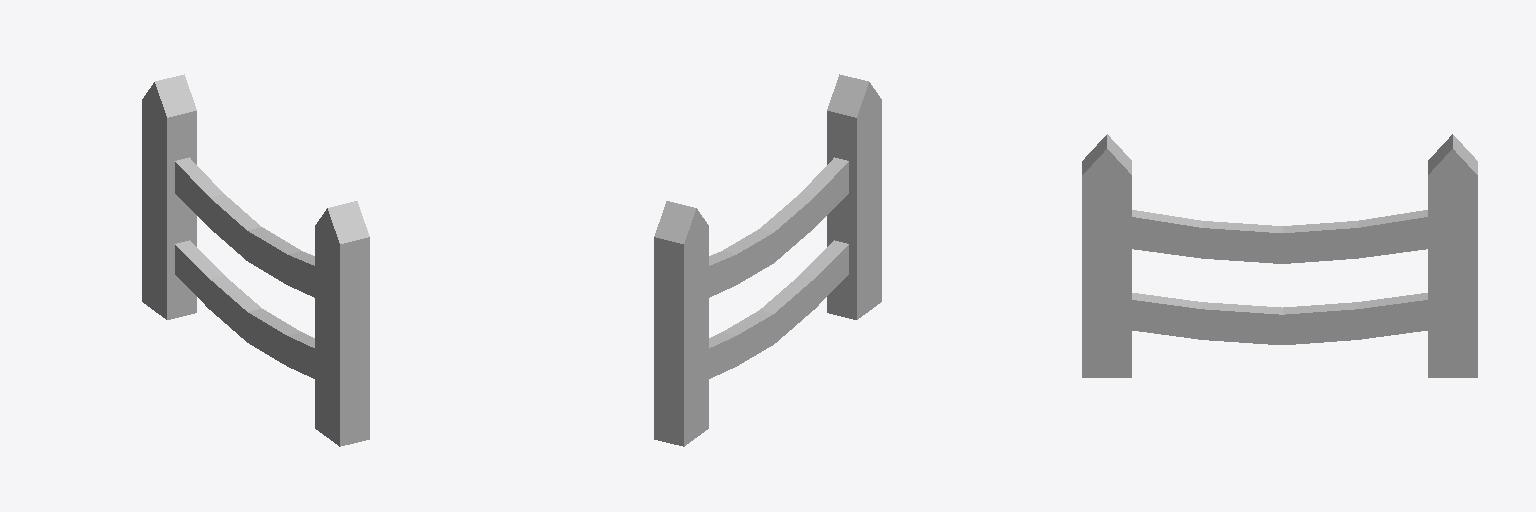
File: fence.obj
3 renders of one model, left to right at view 1: azimuth 30°, elevation 25°; view 2: azimuth 150°, elevation 25°; view 3: azimuth 270°, elevation 25°, orthographic.
Parts seen in each view (by area): view 1: Fence_w_Fence_w_0; view 2: Fence_w_Fence_w_0; view 3: Fence_w_Fence_w_0.
Boxes of the visible parts, box(x1,y1,x2,y2) form: Fence_w_Fence_w_0: box(142, 74, 369, 446); Fence_w_Fence_w_0: box(654, 74, 881, 446); Fence_w_Fence_w_0: box(1082, 134, 1477, 377).
Size of the model in its own units: 0.0313 by 0.2297 by 0.3588.